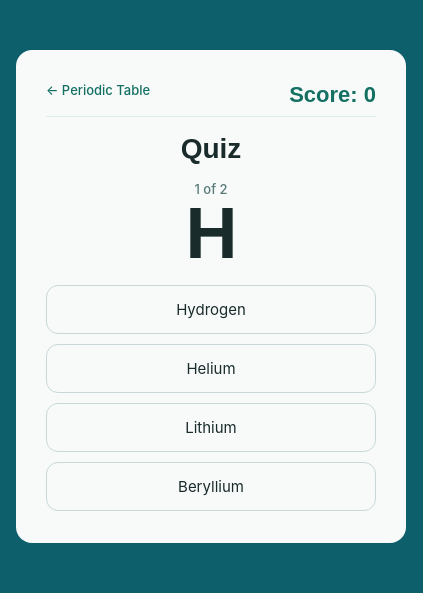
Test: Quiz › increments score on correct answer
The image size is (423, 593).
What coordinates should you click on to do the following:
click the button "Hydrogen"
I would click on:
 (211, 309)
Its box is [46,284,376,334].
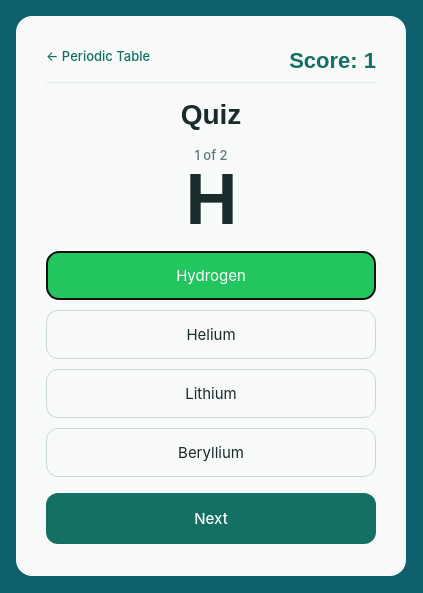
Check: the text "Score: 1" is shown, box [289,48,376,74]
